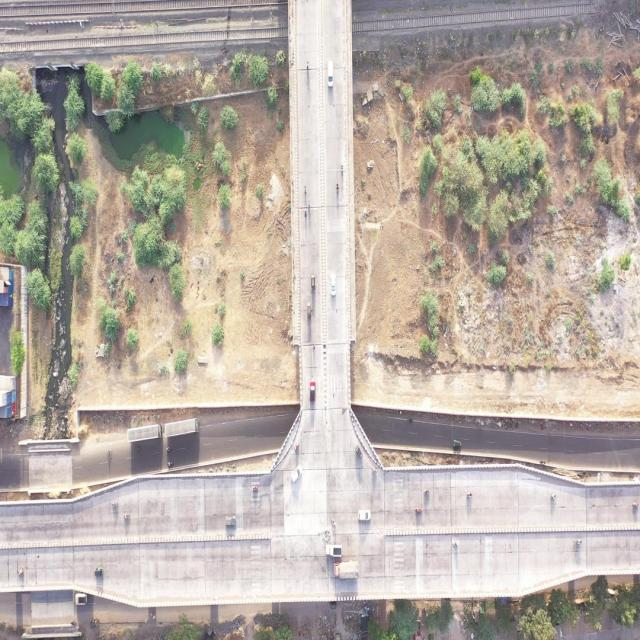3W: (354, 442, 364, 460), (305, 298, 313, 319), (452, 438, 464, 451), (93, 567, 105, 579), (88, 620, 101, 630), (310, 272, 317, 290), (329, 603, 338, 611)
Bus: (164, 415, 201, 441), (126, 422, 164, 443)
Cars: (326, 60, 337, 92), (290, 460, 304, 485), (308, 375, 318, 408), (357, 507, 372, 523), (329, 272, 337, 300), (222, 514, 236, 528)
LCV: (326, 542, 344, 558), (74, 592, 88, 606)
M2W: (370, 464, 380, 478), (573, 536, 583, 547), (414, 504, 423, 516), (334, 180, 340, 196), (465, 490, 474, 500), (294, 442, 301, 454), (123, 511, 131, 521), (330, 516, 338, 526), (423, 486, 431, 496), (305, 58, 310, 74), (16, 568, 25, 576), (550, 492, 558, 501), (631, 500, 639, 509), (311, 339, 316, 352), (538, 458, 546, 466), (110, 502, 119, 509), (340, 163, 344, 178), (166, 460, 174, 467), (251, 485, 259, 492), (164, 446, 173, 452), (407, 416, 414, 423), (452, 542, 460, 548), (303, 182, 307, 194), (133, 446, 142, 451), (308, 197, 311, 211), (305, 206, 307, 217)
Truck: (331, 562, 361, 584)
